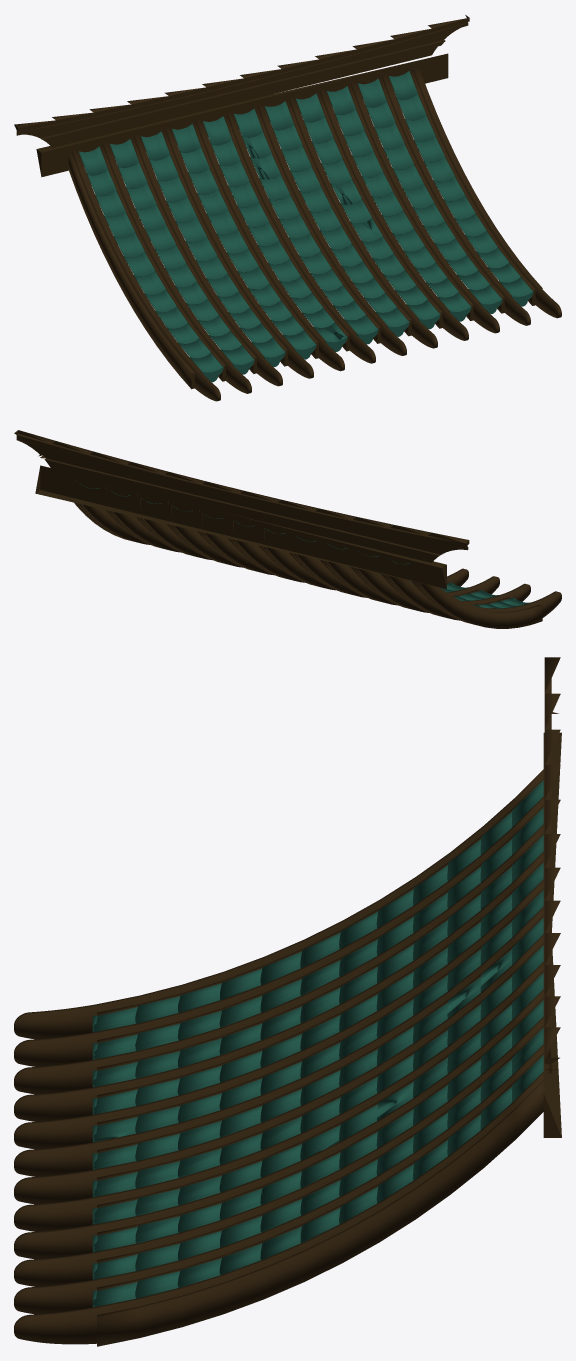
Rendered from temple-roof-half.glb.
3 views of the same model, one above another, from view 1: azimuth 30°, elevation 25°; view 2: azimuth 150°, elevation 25°; view 3: azimuth 270°, elevation 25° (orthographic). The views are drawn at different scales.
Parts seen in each view (by area): view 1: Object_6, Object_4, Object_8; view 2: Object_4, Object_6; view 3: Object_4, Object_6.
Boxes of the visible parts, <box> form: Object_6: <box>79,71,531,372</box>; Object_4: <box>14,15,561,401</box>; Object_8: <box>201,290,533,382</box>; Object_4: <box>14,430,561,628</box>; Object_6: <box>79,483,527,608</box>; Object_4: <box>14,657,561,1346</box>; Object_6: <box>93,780,543,1306</box>.
Bounding box in the file's own units: 16.71 × 6.51 × 9.67.
